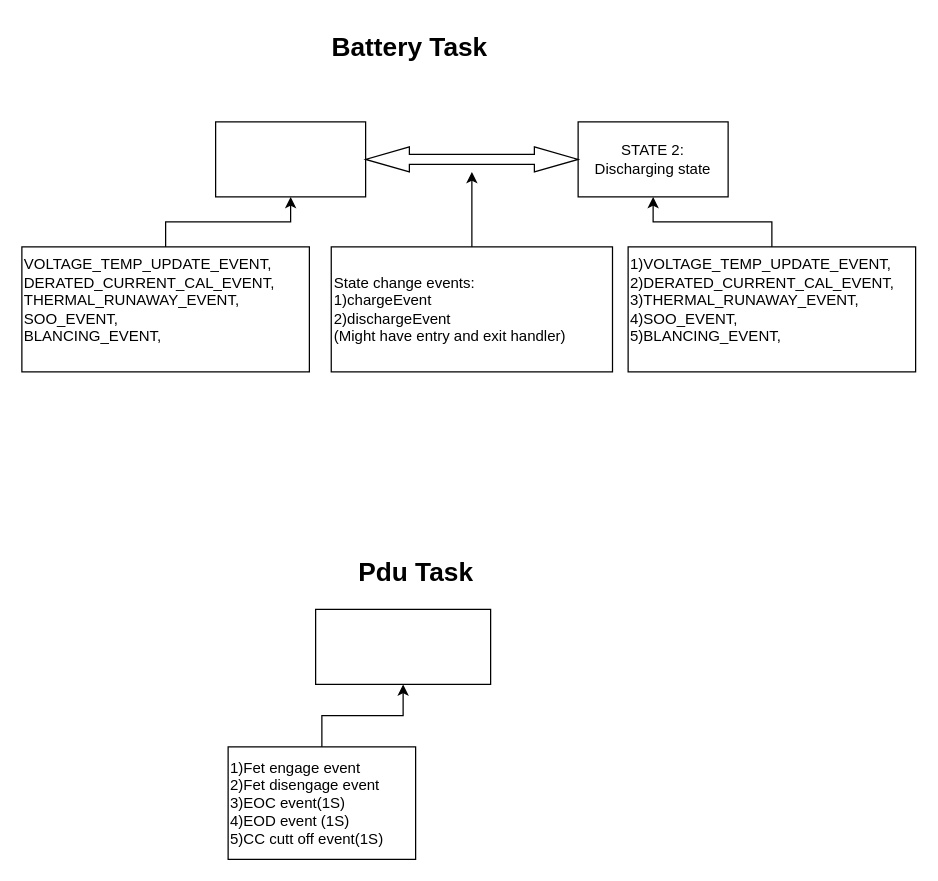
The diagram is 938 pixels wide and 881 high, and some of its shapes have lost their labels. The shapes that lost their labels are listed below. From the top down, each one's centre as x and y in pixels, then its label:
(x=290, y=159): STATE 1: Charging state
(x=402, y=646): STATE 1:
